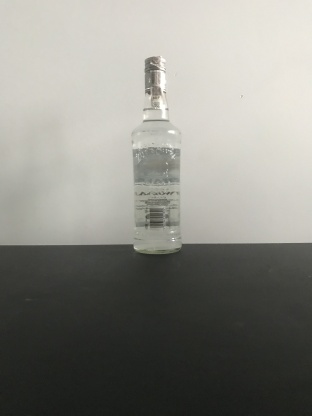nakretka: (142, 53, 168, 94)
